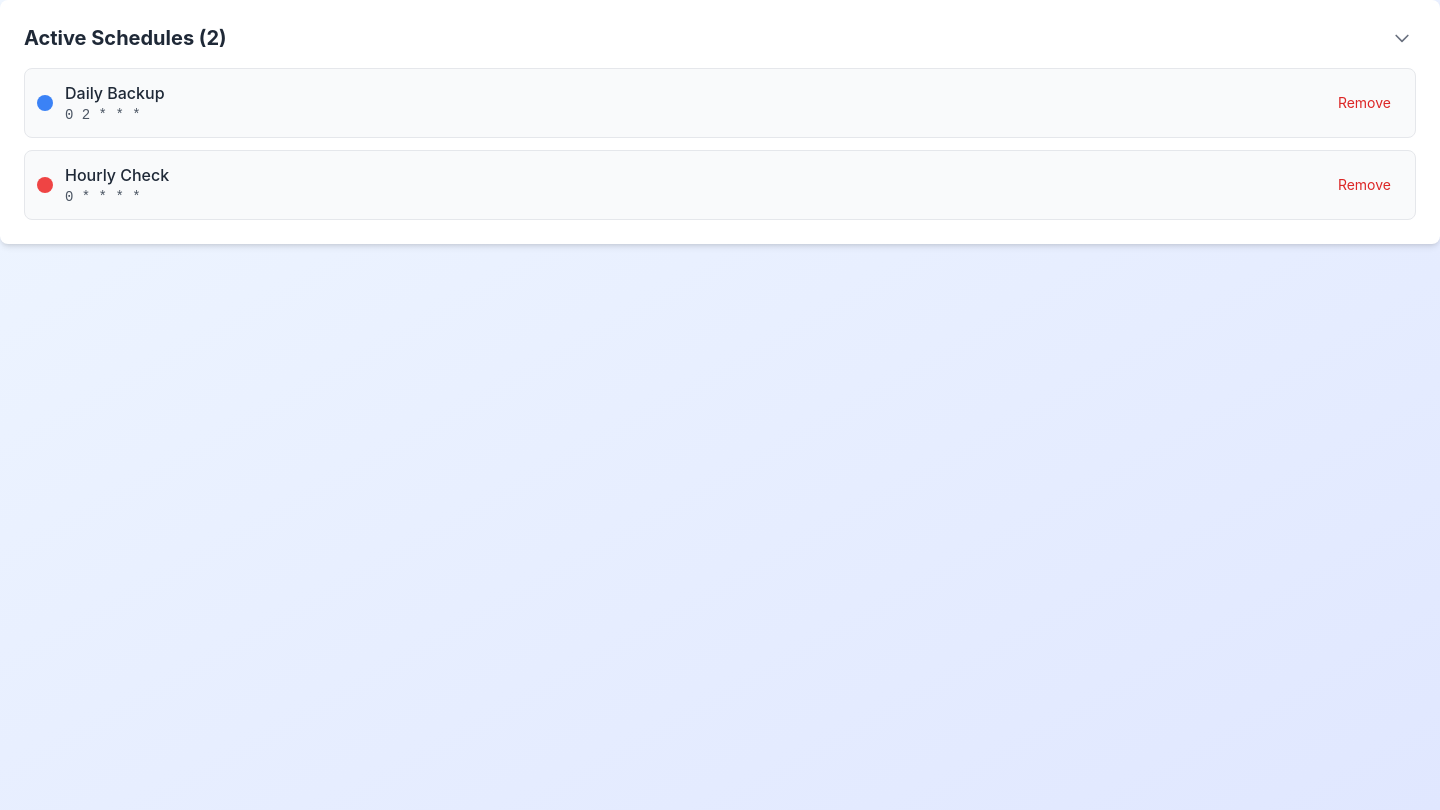
Test: ScheduleList › Collapsible View › should hide schedule items when collapsed
What coordinates should you click on to do the following:
click the button named "collapse schedules"
I would click on:
 (1402, 38)
Its box is [1388,24,1416,52].
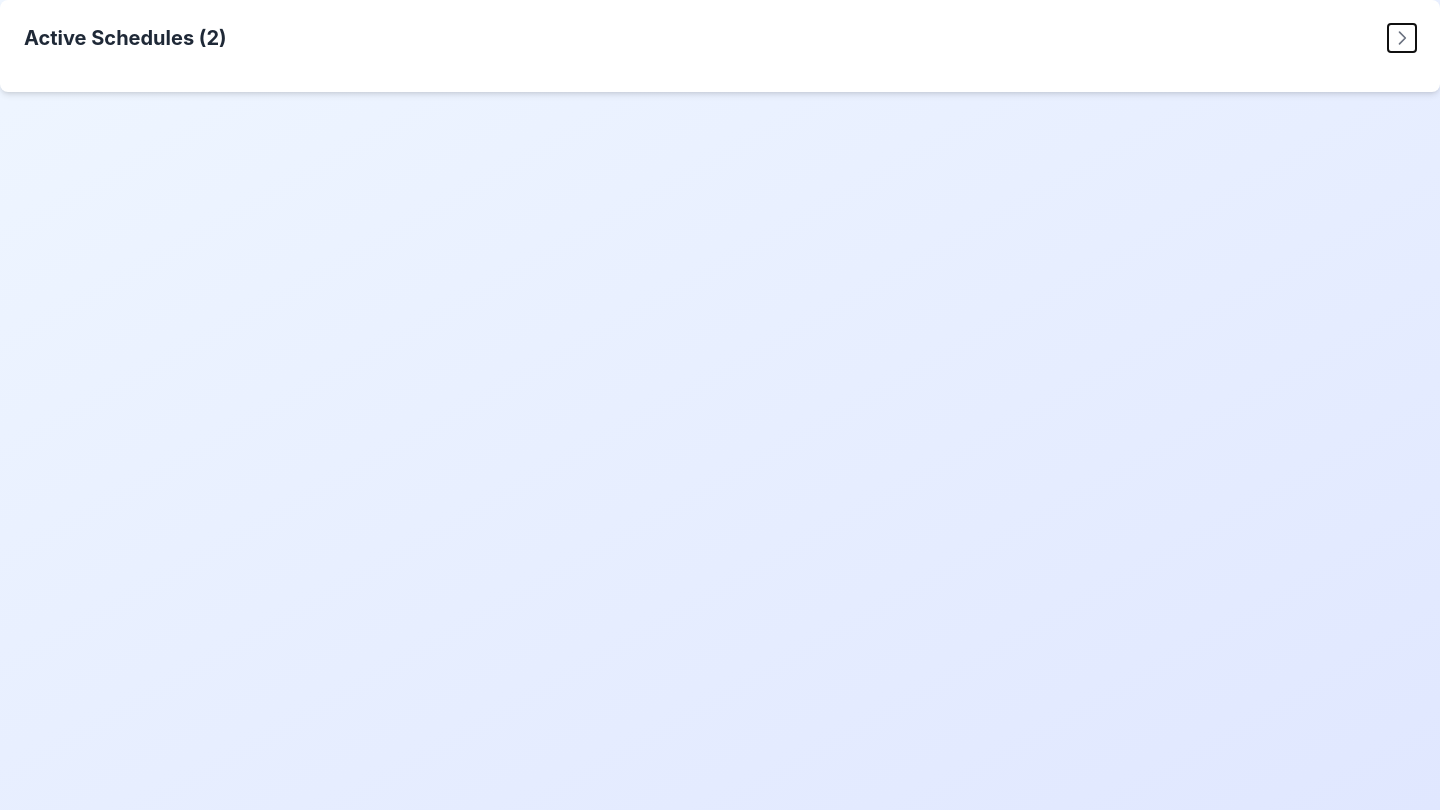
Expected: the text "Daily Backup" is gone
Expected: the text "Hourly Check" is gone
